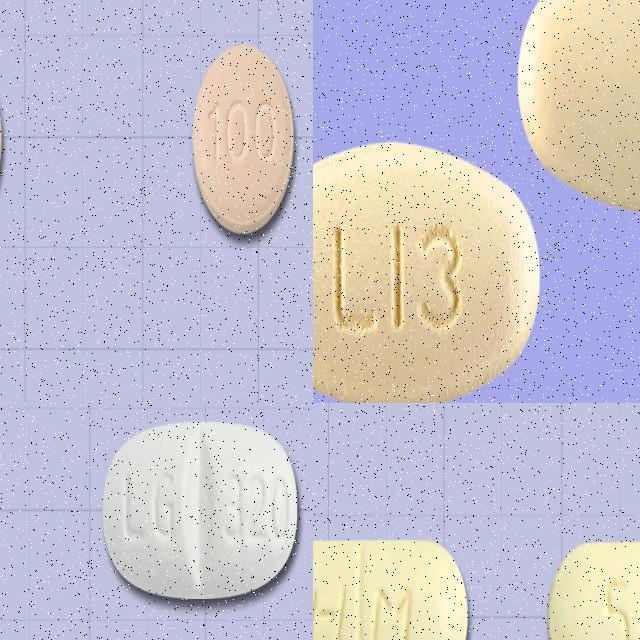Factive: (102, 419, 298, 600)
Flomox: (192, 44, 295, 235)
Levoable: (313, 141, 540, 403), (516, 0, 640, 211)
Levoxacin: (313, 539, 468, 640), (547, 542, 640, 640)
